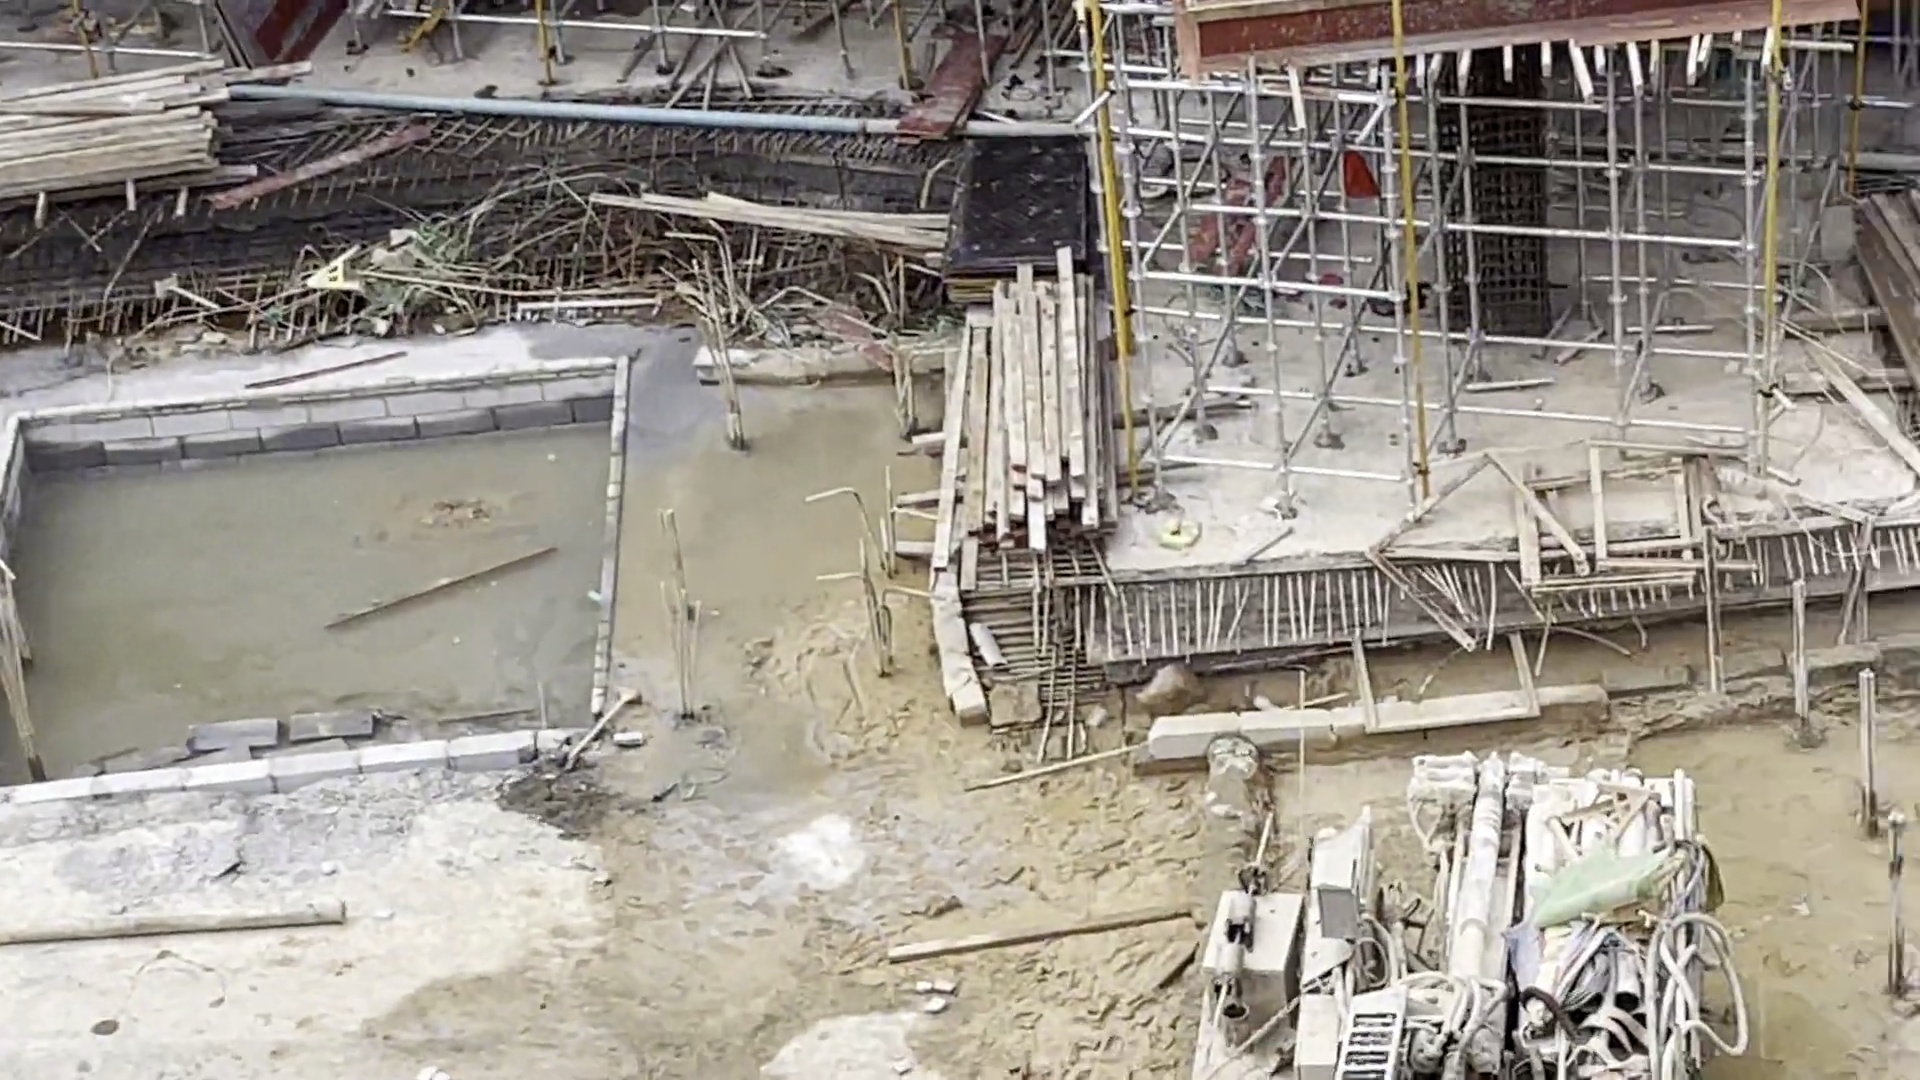wood: (928, 243, 1102, 589), (1, 63, 298, 203)
